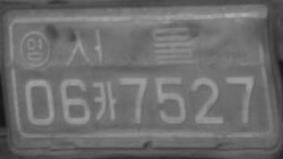0: (24, 78, 54, 127)
2: (189, 75, 224, 124)
5: (153, 76, 186, 125)
6: (59, 77, 91, 125)
7: (226, 75, 256, 124), (118, 76, 148, 124)
서울_D: (63, 26, 195, 66)
영: (19, 30, 50, 68)
카: (92, 80, 116, 121)
